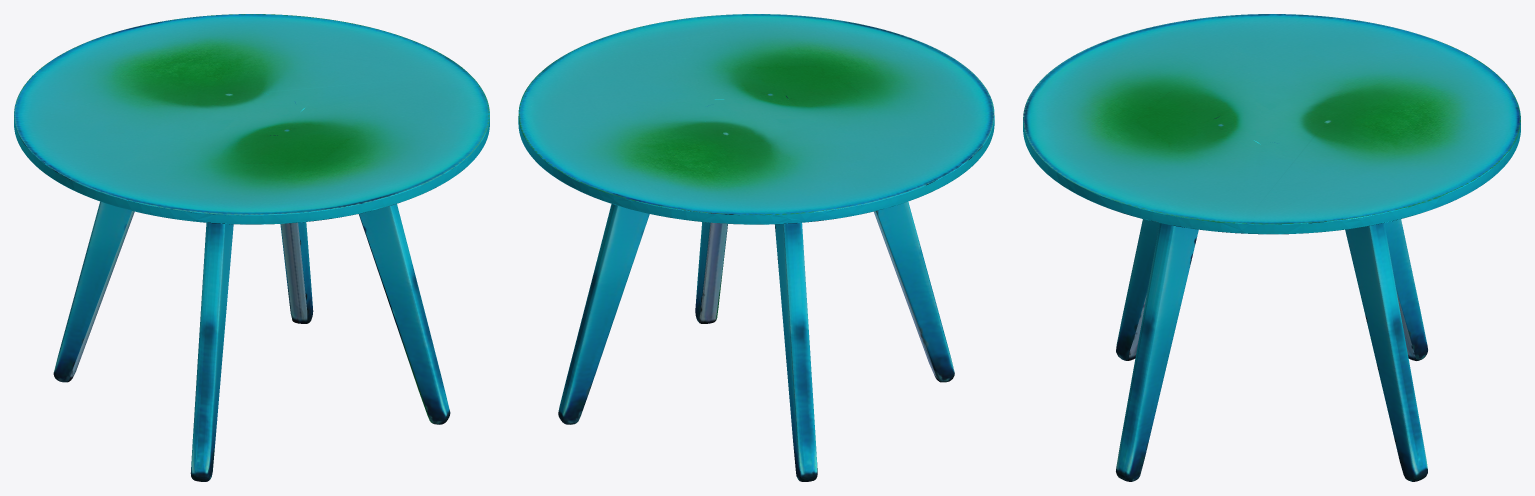
The model's file is edited_mesh.glb.
3 views of the same model, side by side, from view 1: azimuth 30°, elevation 25°; view 2: azimuth 150°, elevation 25°; view 3: azimuth 270°, elevation 25° (orthographic). The views are drawn at different scales.
Parts seen in each view (by area): view 1: solid_001_wire; view 2: solid_001_wire; view 3: solid_001_wire.
Boxes of the visible parts, x1,y1,x2,y2 form: solid_001_wire: (14, 14, 489, 481); solid_001_wire: (518, 14, 994, 481); solid_001_wire: (1023, 14, 1520, 481).
Bounding box in the file's own units: 1.72 × 1.14 × 1.72.
1 material, 1 textured.
